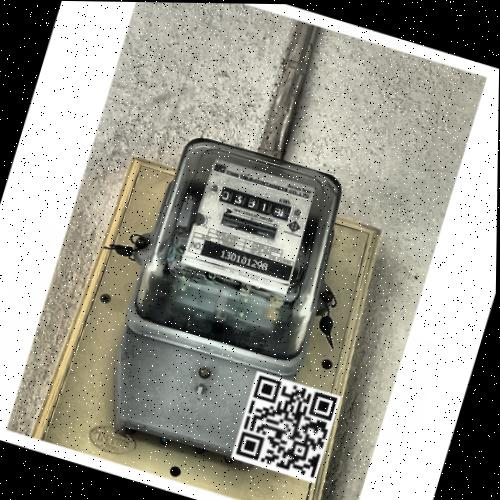qr_code: (230, 371, 342, 485)
